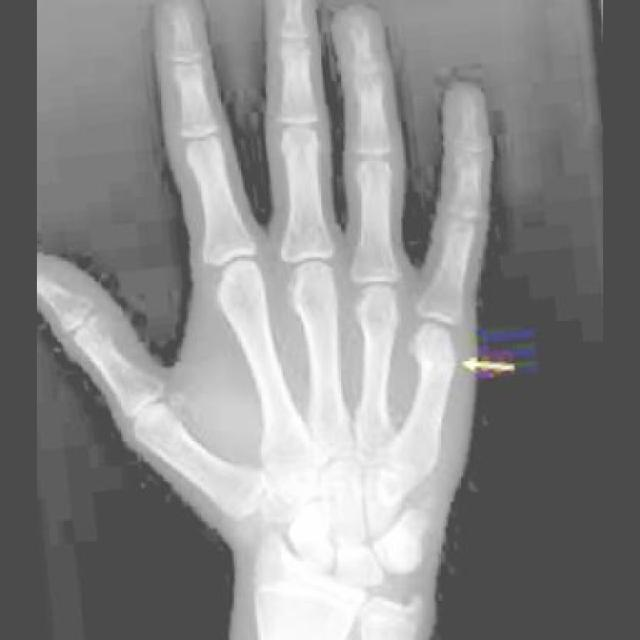Fracture: (416, 346, 459, 377)
